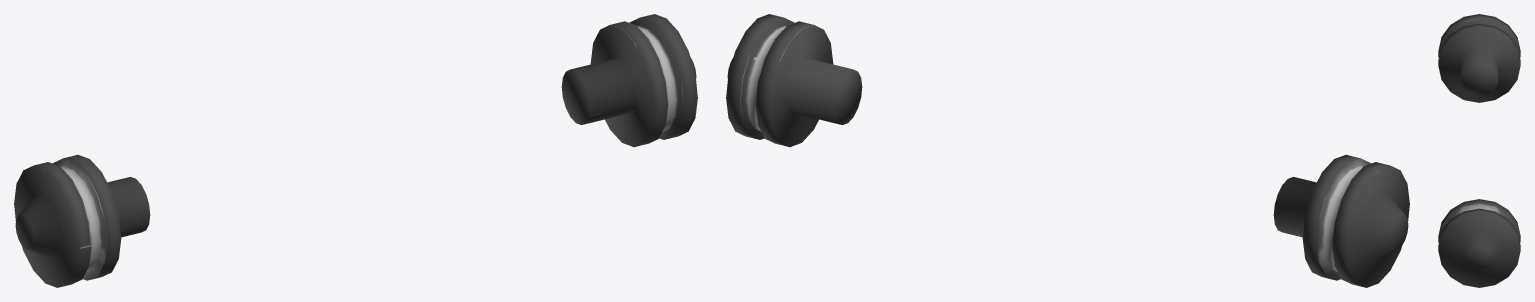
The model's file is tornillos.fbx.
3 views of the same model, side by side, from view 1: azimuth 30°, elevation 25°; view 2: azimuth 150°, elevation 25°; view 3: azimuth 270°, elevation 25° (orthographic). The views are drawn at different scales.
Visible parts, largest first — view 1: Tornillos; view 2: Tornillos; view 3: Tornillos.
Part boxes in pixels (x1,y1,x2,y2): Tornillos: (14, 14, 697, 287); Tornillos: (726, 14, 1409, 287); Tornillos: (1438, 14, 1520, 287).
Bounding box in the file's own units: 67.97 × 11.13 × 11.13.
